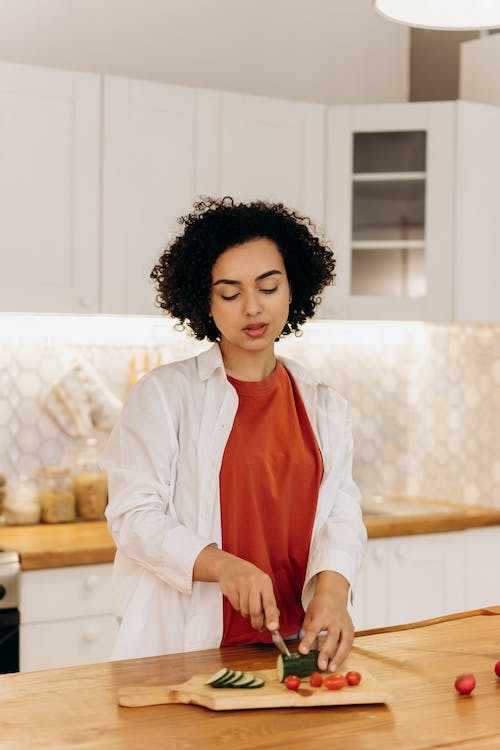knife: (268, 627, 292, 658)
